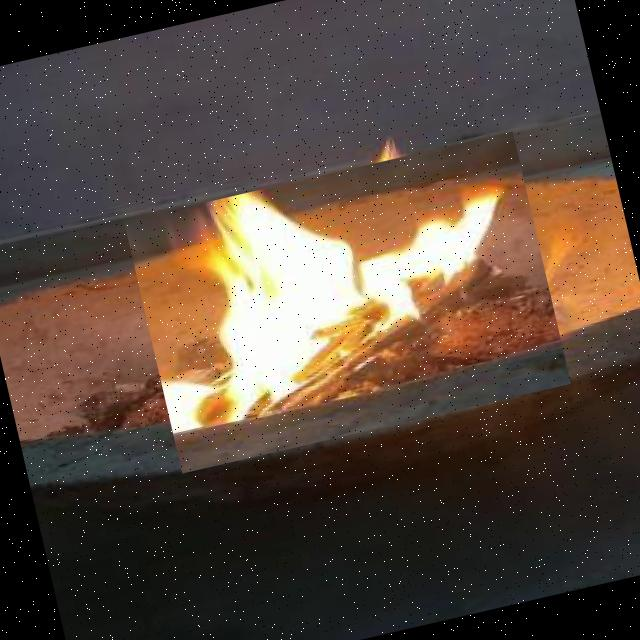fire: (124, 131, 570, 473)
